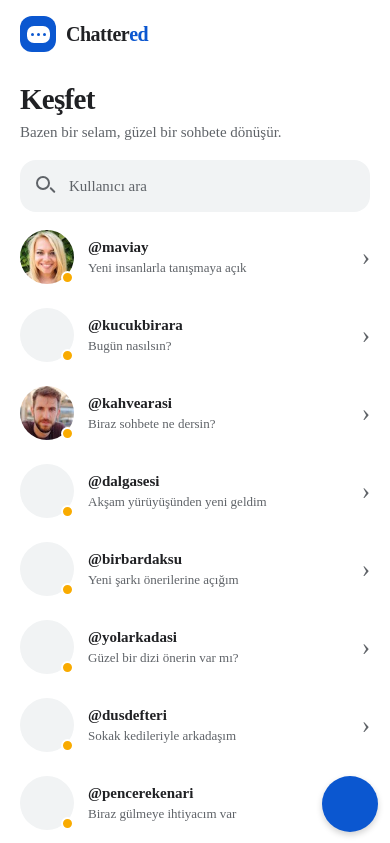
it: UserDirectoryScreen › filters users by handle or description using Turkish casing
Type "KAHVE" into the field labelled "Kullanıcı ara" at (212, 186), box [69, 161, 354, 211]
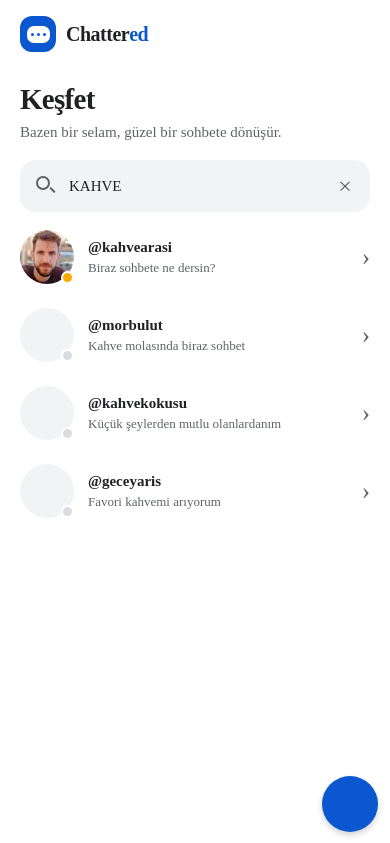
Expected: the button "@maviay" no longer shows "@maviay"
